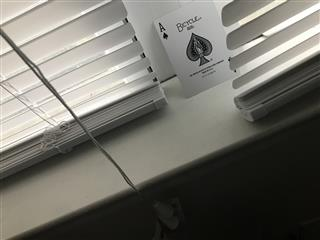AceOfSpades: (152, 1, 241, 98)
